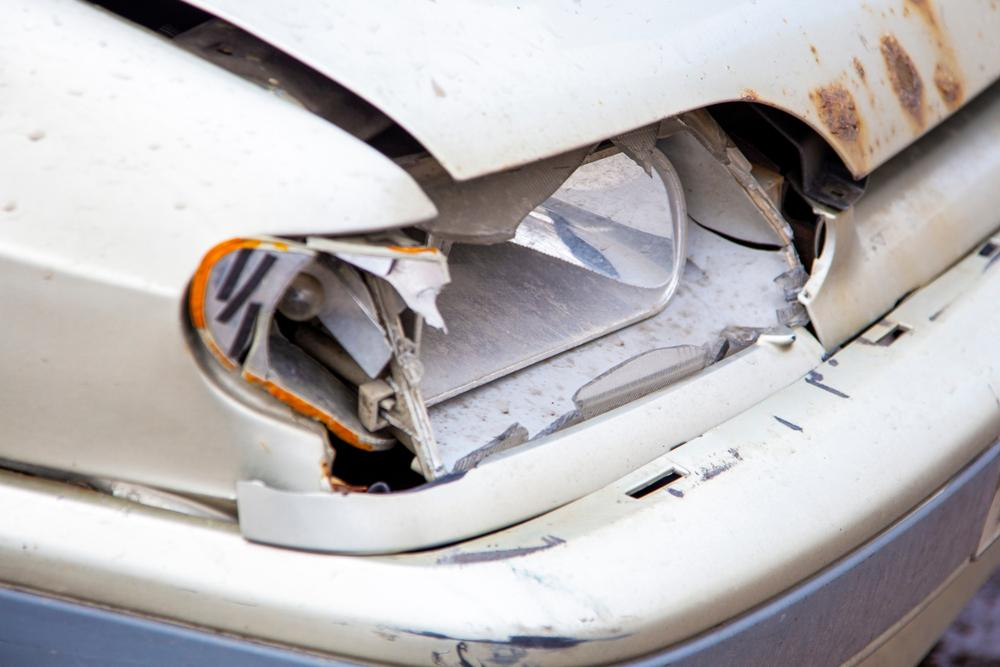lamp broken: (189, 110, 845, 487)
scratch: (374, 568, 647, 667), (438, 533, 573, 570)
